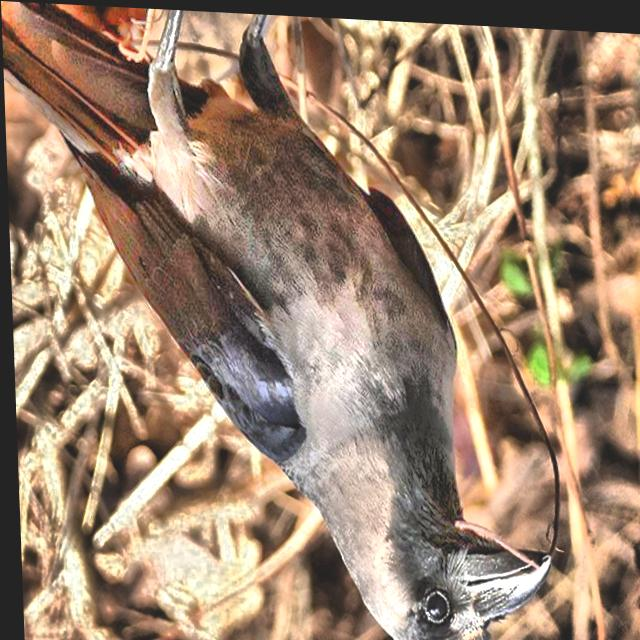crow: (1, 2, 614, 640)
